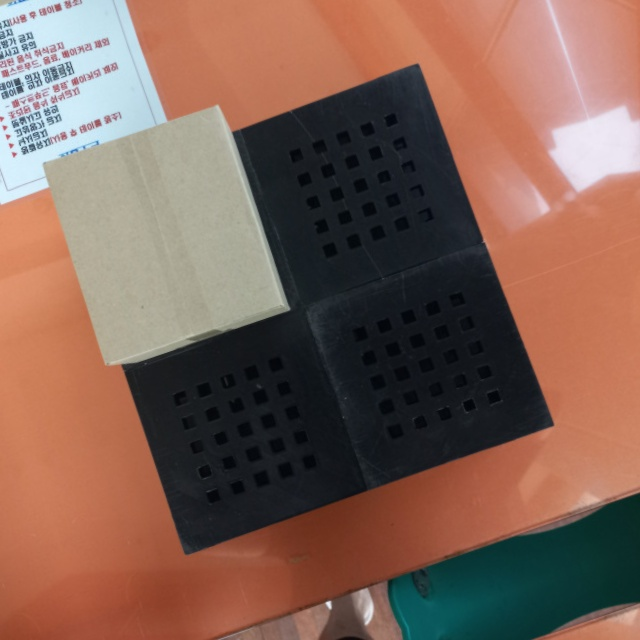box: (40, 101, 286, 372)
pallet: (42, 48, 566, 561)
